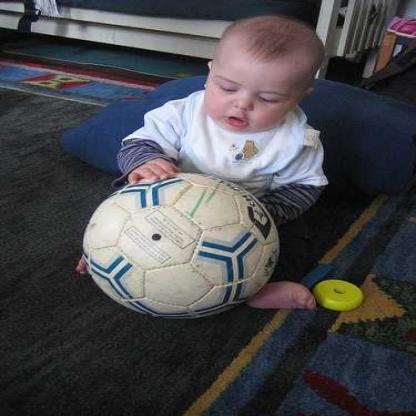ball: (84, 172, 281, 319)
